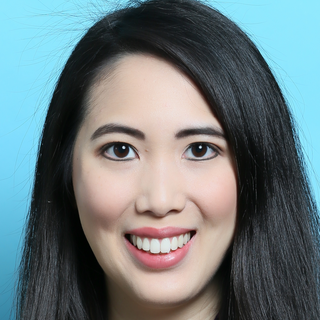eye: (96, 138, 142, 165), (179, 138, 224, 165)
